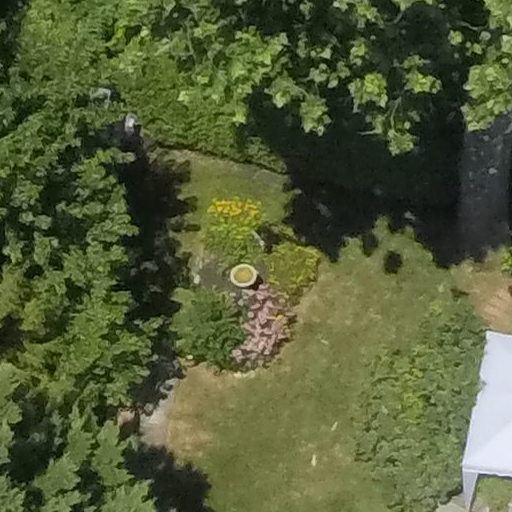container: (222, 259, 260, 295)
